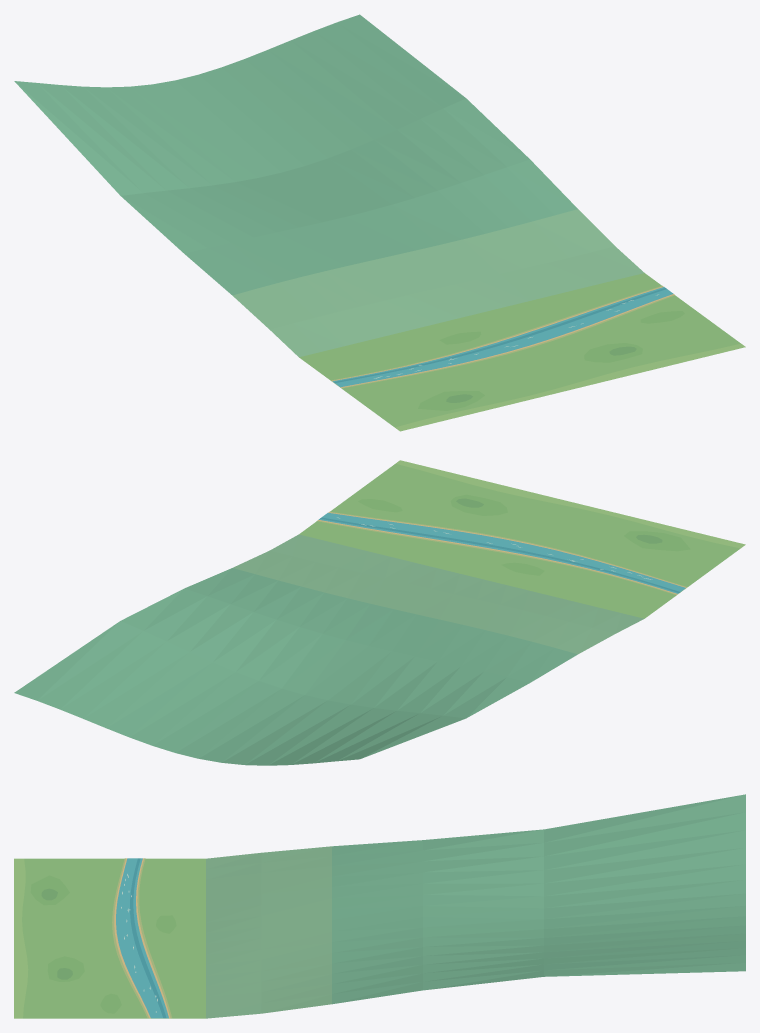
Rendered from Ruisseau_5.fbx.
3 renders of one model, top to bottom at view 1: azimuth 30°, elevation 25°; view 2: azimuth 150°, elevation 25°; view 3: azimuth 270°, elevation 25°, orthographic. The views are drawn at different scales.
Parts seen in each view (by area): view 1: Ruisseau_5; view 2: Ruisseau_5; view 3: Ruisseau_5.
Boxes of the visible parts, x1,y1,x2,y2 form: Ruisseau_5: (14, 14, 745, 431); Ruisseau_5: (14, 460, 745, 765); Ruisseau_5: (14, 794, 745, 1018).
Bounding box in the file's own units: 7500 × 1407 × 14504.
Materials: 1 (1 with a texture image).
